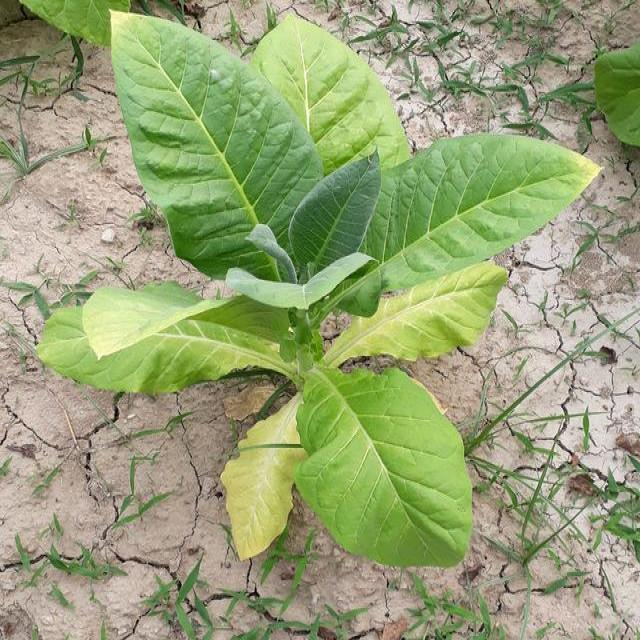crop: (38, 9, 604, 562)
